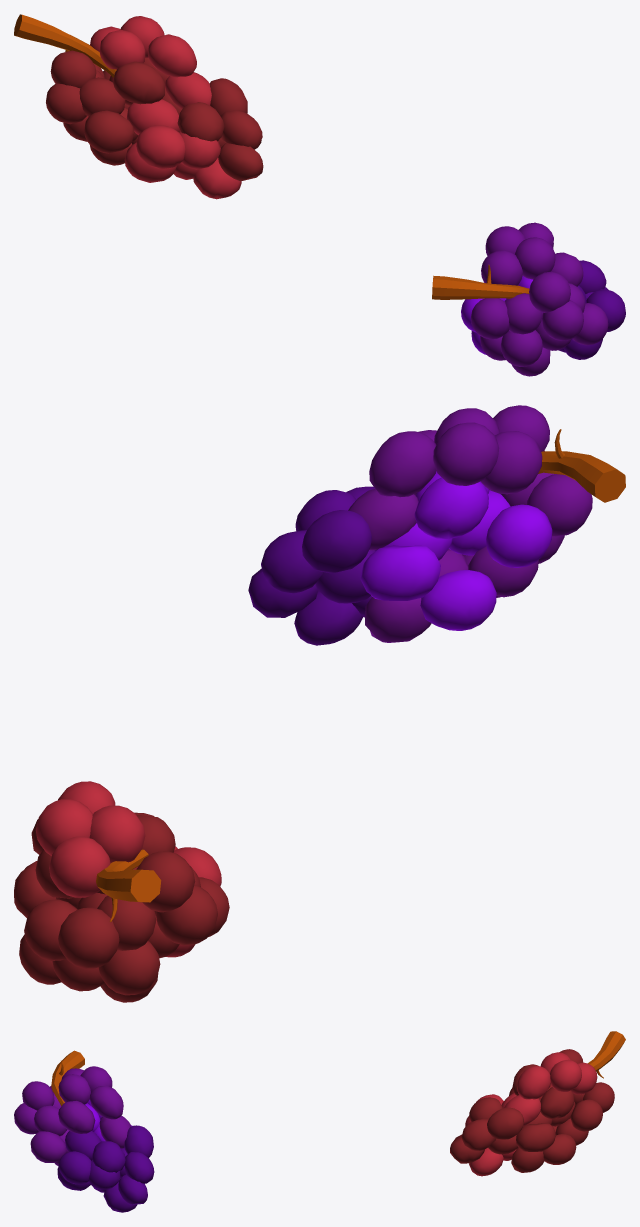
The model's file is Grapes.fbx.
The picture shows the model from 3 angles, top to bottom: view 1: azimuth 30°, elevation 25°; view 2: azimuth 150°, elevation 25°; view 3: azimuth 270°, elevation 25°; orthographic projection. The views are drawn at different scales.
Parts seen in each view (by area): view 1: Grapes, Grapes.001, Grapes.008, Grapes.006, Grapes.007, Grapes.002, Cube, Cube.002, Grapes.004, Grapes.005, Grapes.003; view 2: Grapes.005, Grapes.001, Grapes.002, Grapes.003, Grapes, Grapes.006, Grapes.009, Grapes.004, Cube, Cube.002, Grapes.008; view 3: Grapes, Grapes.009, Grapes.007, Grapes.006, Grapes.003, Grapes.002, Grapes.004, Grapes.001, Grapes.008, Cube.002, Cube.
Part boxes in pixels (box(x1,y1,x2,y2)): Grapes: box(471, 252, 608, 376); Grapes.001: box(46, 50, 164, 165); Grapes.008: box(124, 99, 241, 199); Grapes.006: box(90, 16, 211, 109); Grapes.007: box(177, 78, 263, 181); Grapes.002: box(481, 222, 555, 285); Cube: box(432, 265, 529, 299); Cube.002: box(14, 14, 116, 77); Grapes.004: box(555, 285, 625, 359); Grapes.005: box(461, 276, 532, 354); Grapes.003: box(579, 260, 606, 293); Grapes.005: box(360, 471, 552, 630); Grapes.001: box(52, 815, 229, 1002); Grapes.002: box(348, 408, 542, 550); Grapes.003: box(248, 490, 373, 617); Grapes: box(365, 405, 592, 642); Grapes.006: box(35, 781, 145, 897); Grapes.009: box(14, 849, 138, 984); Grapes.004: box(294, 486, 374, 645); Cube: box(538, 429, 625, 502); Cube.002: box(96, 849, 161, 921); Grapes.008: box(165, 846, 221, 957); Grapes: box(14, 1081, 95, 1166); Grapes.009: box(516, 1084, 602, 1164); Grapes.007: box(450, 1097, 523, 1163); Grapes.006: box(504, 1052, 597, 1125); Grapes.003: box(92, 1125, 154, 1204); Grapes.002: box(58, 1066, 131, 1148); Grapes.004: box(57, 1131, 137, 1212); Grapes.001: box(509, 1049, 614, 1172); Grapes.008: box(465, 1093, 516, 1176); Cube.002: box(587, 1031, 625, 1078); Cube: box(51, 1050, 84, 1105).
Bounding box in the file's own units: 347 × 196 × 952.
1 material, 1 textured.
